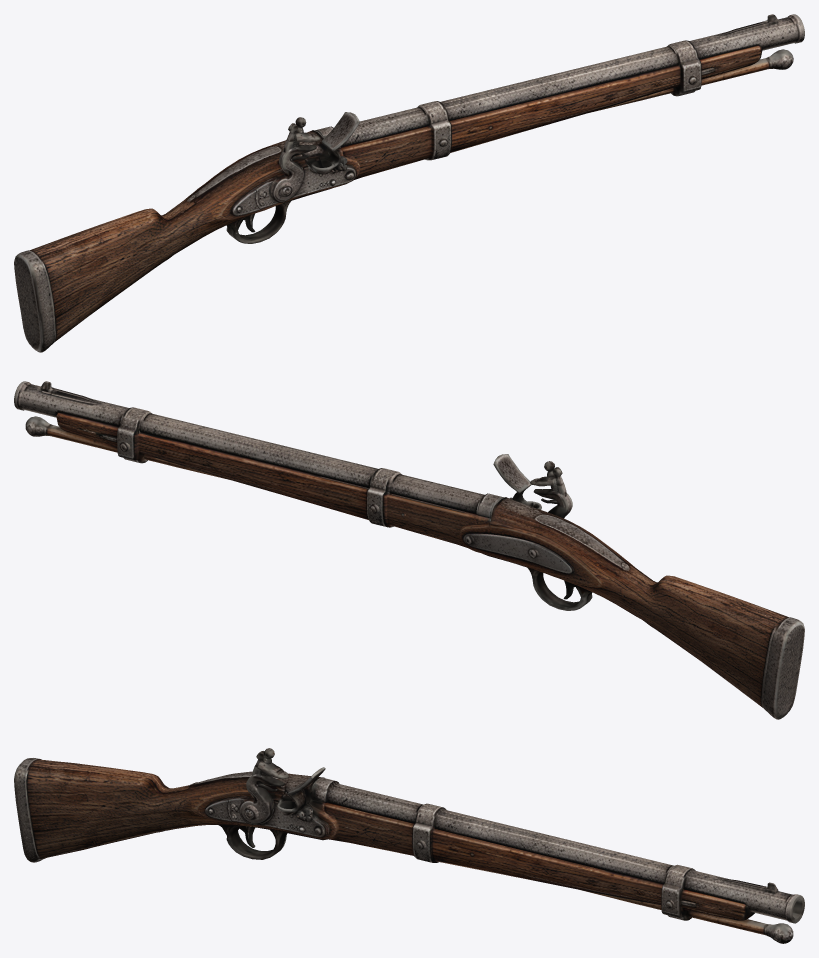
The model's file is musket.glb.
3 views of the same model, one above another, from view 1: azimuth 30°, elevation 25°; view 2: azimuth 150°, elevation 25°; view 3: azimuth 330°, elevation 25° (orthographic).
Visible parts, largest first — view 1: tripo_0693ad8d_dfa2_48d5_8298_18459ec600fd; view 2: tripo_0693ad8d_dfa2_48d5_8298_18459ec600fd; view 3: tripo_0693ad8d_dfa2_48d5_8298_18459ec600fd.
Part boxes in pixels (x1=…): tripo_0693ad8d_dfa2_48d5_8298_18459ec600fd: x1=14, y1=14, x2=804, y2=352; tripo_0693ad8d_dfa2_48d5_8298_18459ec600fd: x1=14, y1=381, x2=804, y2=719; tripo_0693ad8d_dfa2_48d5_8298_18459ec600fd: x1=14, y1=748, x2=804, y2=943.
Size of the model in its own units: 0.9995 by 0.2271 by 0.0845.
1 material, 1 textured.
